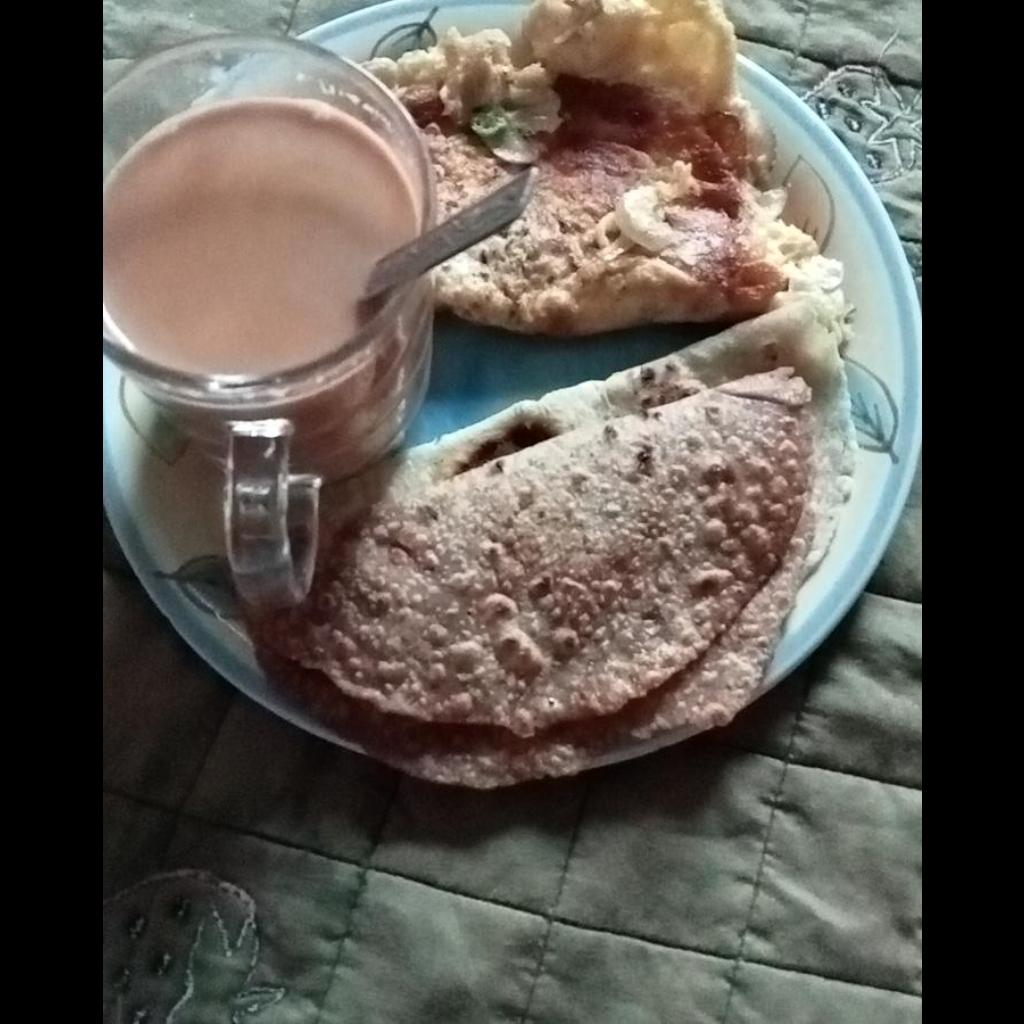cha: (102, 103, 416, 370)
egg-poached: (366, 0, 840, 334)
ruti: (247, 292, 858, 788)
